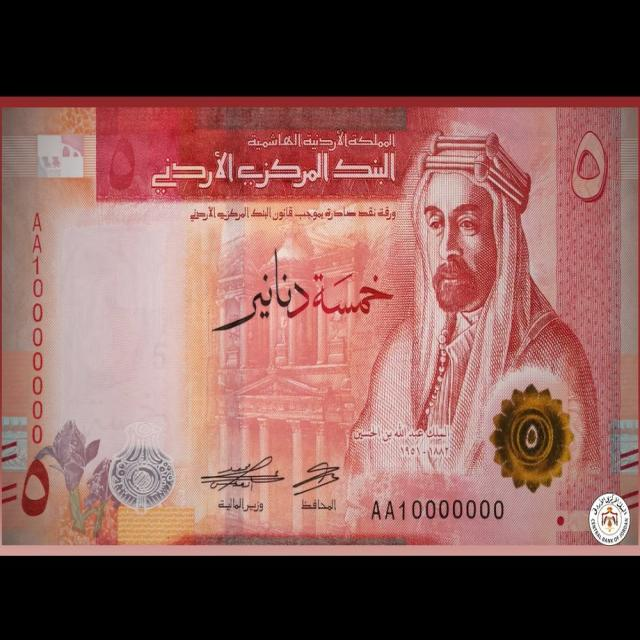5-dinar: (0, 98, 640, 556)
